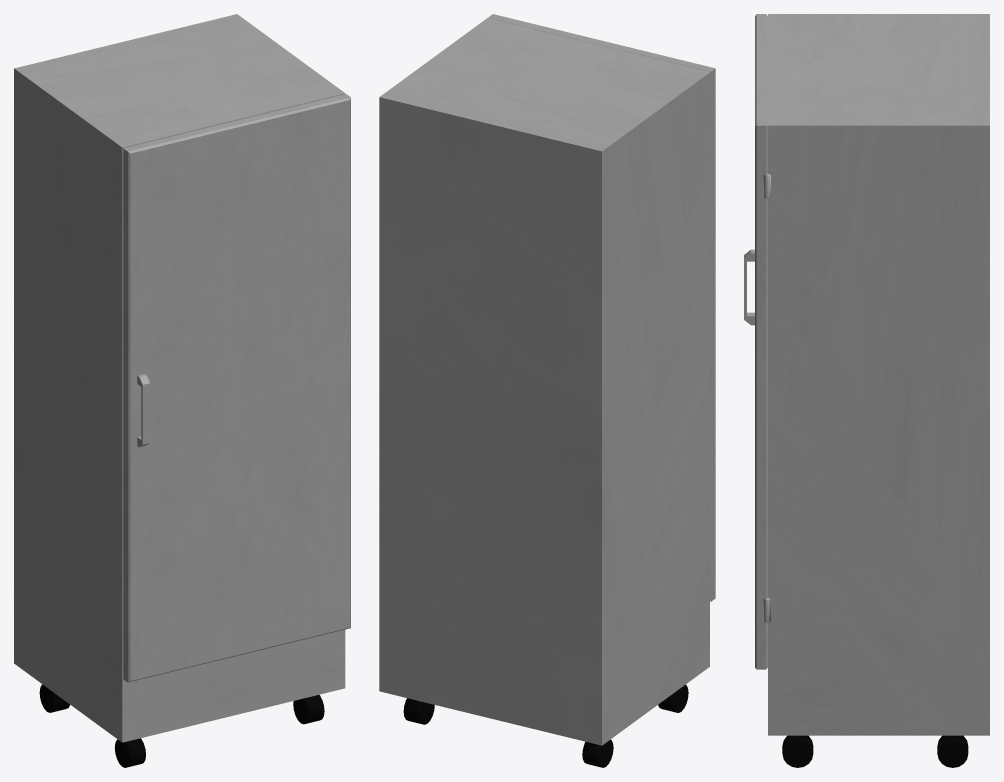
File: fridge.fbx
The picture shows the model from 3 angles, left to right: view 1: azimuth 30°, elevation 25°; view 2: azimuth 150°, elevation 25°; view 3: azimuth 270°, elevation 25°; orthographic projection. The views are drawn at different scales.
Visible parts, largest first — view 1: Cube.001, Cube, Cube.004, Cylinder, Cylinder.001; view 2: Cube, Cube.001, Cylinder.002, Cylinder.003; view 3: Cube, Cube.001, Cylinder.001, Cylinder.003.
Boxes of the visible parts, x1,y1,x2,y2 form: Cube.001: [123, 94, 350, 682]; Cube: [14, 14, 345, 742]; Cube.004: [137, 374, 150, 447]; Cylinder: [114, 738, 145, 767]; Cylinder.001: [293, 694, 324, 724]; Cube: [379, 18, 709, 745]; Cube.001: [488, 14, 715, 601]; Cylinder.002: [582, 739, 613, 767]; Cylinder.003: [403, 698, 434, 724]; Cube: [768, 14, 989, 735]; Cube.001: [755, 14, 767, 669]; Cylinder.001: [782, 735, 813, 767]; Cylinder.003: [937, 735, 968, 767].
Bounding box in the file's own units: 69.49 × 186 × 63.75.
